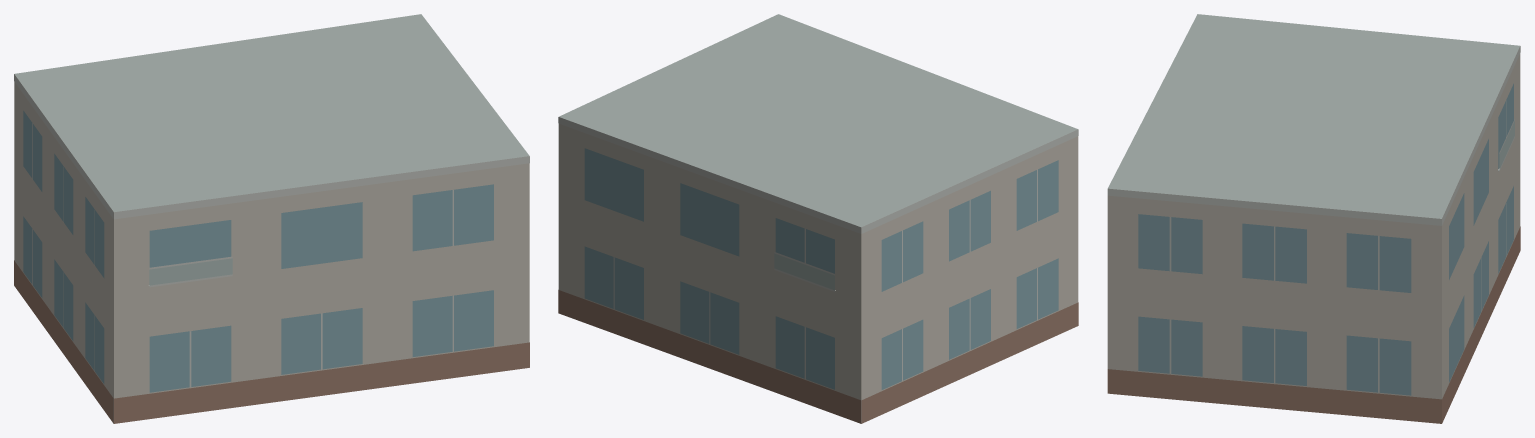
The model's file is survey-upis-32511555.glb.
The picture shows the model from 3 angles, left to right: view 1: azimuth 30°, elevation 25°; view 2: azimuth 150°, elevation 25°; view 3: azimuth 270°, elevation 25°; orthographic projection. The views are drawn at different scales.
Visible parts, largest first — view 1: survey-upis-32511555.tmp; view 2: survey-upis-32511555.tmp; view 3: survey-upis-32511555.tmp.
Boxes of the visible parts, x1,y1,x2,y2 form: survey-upis-32511555.tmp: (14,14,529,423); survey-upis-32511555.tmp: (558,14,1078,423); survey-upis-32511555.tmp: (1107,14,1520,423).
Bounding box in the file's own units: 15.35 × 7.15 × 13.06.
